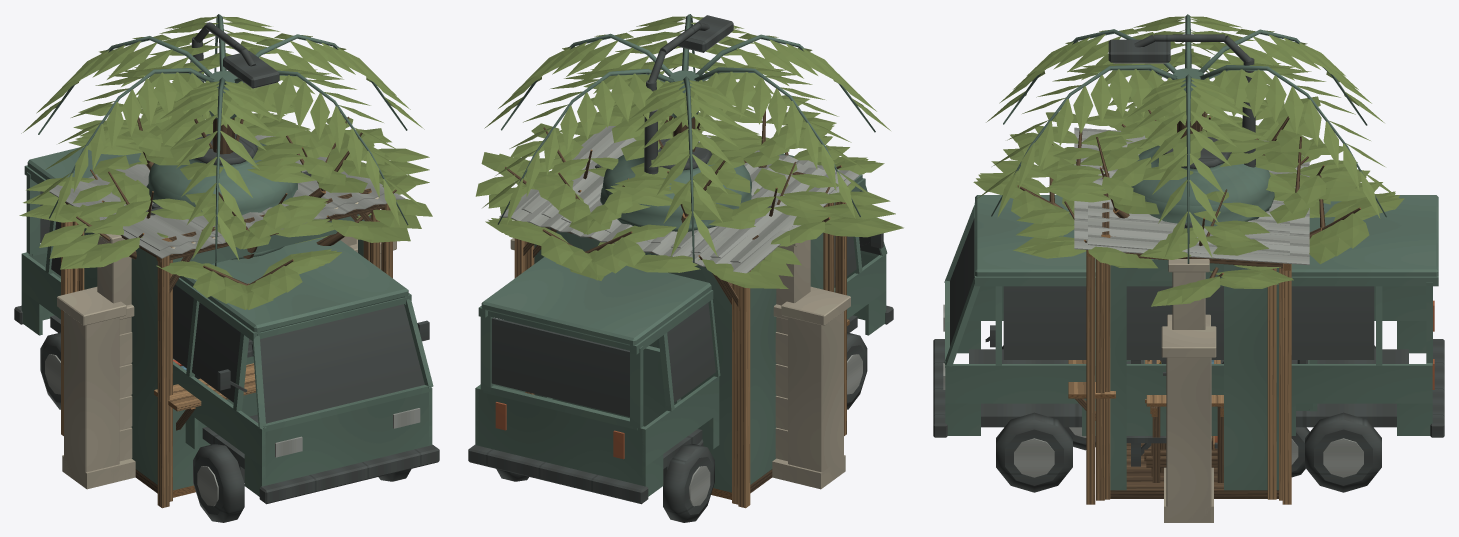
File: east-africa.glb
3 views of the same model, side by side, from view 1: azimuth 30°, elevation 25°; view 2: azimuth 150°, elevation 25°; view 3: azimuth 270°, elevation 25° (orthographic).
Parts seen in each view (by area): view 1: minibus, palm, broadleaf-tree, acacia, kiosk, wall, canopy, water-tank, market-stall, gate, street-lamp; view 2: minibus, palm, broadleaf-tree, kiosk, acacia, wall, market-stall, canopy, water-tank, street-lamp, gate, three-wheeler; view 3: minibus, palm, kiosk, broadleaf-tree, acacia, market-stall, wall, water-tank, canopy, street-lamp, gate, three-wheeler.
Part boxes in pixels (x1,y1,x2,y2): minibus: [14, 147, 439, 522]; palm: [21, 14, 424, 266]; broadleaf-tree: [68, 81, 391, 258]; acacia: [19, 108, 432, 309]; kiosk: [49, 135, 405, 501]; wall: [57, 239, 396, 489]; canopy: [61, 197, 392, 508]; water-tank: [146, 134, 297, 379]; market-stall: [70, 156, 384, 370]; gate: [93, 233, 356, 482]; street-lamp: [190, 22, 279, 115]; minibus: [468, 153, 893, 522]; palm: [482, 14, 890, 262]; broadleaf-tree: [510, 71, 842, 234]; kiosk: [499, 131, 859, 504]; acacia: [475, 109, 903, 288]; wall: [510, 238, 850, 489]; market-stall: [521, 126, 846, 290]; canopy: [514, 186, 847, 508]; water-tank: [600, 138, 751, 231]; street-lamp: [644, 15, 733, 174]; gate: [772, 240, 810, 482]; three-wheeler: [558, 335, 703, 445]; minibus: [933, 195, 1444, 492]; palm: [976, 14, 1400, 263]; kiosk: [1068, 127, 1309, 500]; broadleaf-tree: [1010, 85, 1367, 259]; acacia: [973, 107, 1404, 306]; market-stall: [1088, 128, 1289, 499]; wall: [1161, 314, 1216, 522]; water-tank: [1131, 137, 1274, 466]; canopy: [1086, 250, 1291, 504]; street-lamp: [1108, 34, 1255, 167]; gate: [1168, 259, 1209, 329]; three-wheeler: [1064, 360, 1318, 477].
Size of the model in its own units: 3.93 by 3.83 by 4.3.
Materials: 1 (1 with a texture image).
